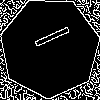I: (24, 22, 71, 55)
